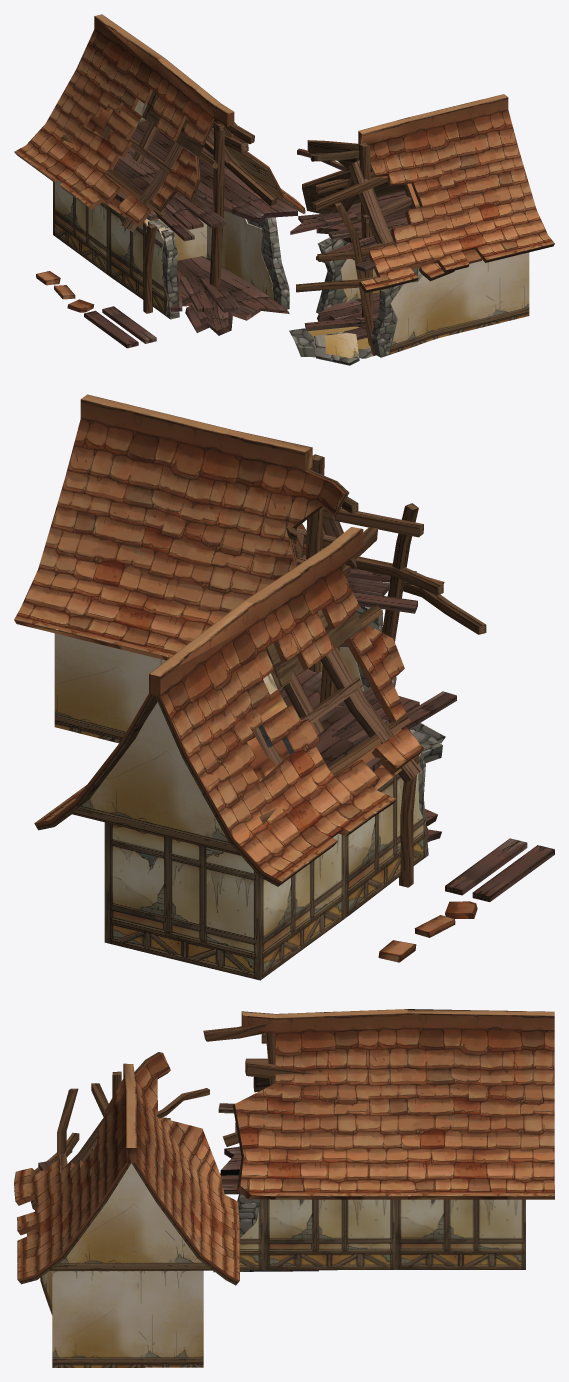
The model's file is 2_CZ_PoFangZi_01.FBX.
3 views of the same model, one above another, from view 1: azimuth 30°, elevation 25°; view 2: azimuth 150°, elevation 25°; view 3: azimuth 270°, elevation 25° (orthographic). The views are drawn at different scales.
Visible parts, largest first — view 1: 2_CZ_PoFangZi_01, 2_CZ_PoFangZi_02, 2_CZ_PoFangZi_09, 2_CZ_PoFangZi_08, 2_CZ_PoFangZi_03, 2_CZ_PoFangZi_04; view 2: 2_CZ_PoFangZi_01, 2_CZ_PoFangZi_02, 2_CZ_PoFangZi_08, 2_CZ_PoFangZi_09; view 3: 2_CZ_PoFangZi_01, 2_CZ_PoFangZi_02.
Boxes of the visible parts, x1,y1,x2,y2 form: 2_CZ_PoFangZi_01: [14, 14, 305, 335]; 2_CZ_PoFangZi_02: [290, 94, 554, 358]; 2_CZ_PoFangZi_09: [102, 306, 156, 343]; 2_CZ_PoFangZi_08: [84, 310, 138, 348]; 2_CZ_PoFangZi_03: [289, 327, 372, 358]; 2_CZ_PoFangZi_04: [313, 332, 359, 365]; 2_CZ_PoFangZi_01: [34, 527, 456, 980]; 2_CZ_PoFangZi_02: [14, 394, 486, 743]; 2_CZ_PoFangZi_08: [472, 845, 554, 901]; 2_CZ_PoFangZi_09: [445, 838, 527, 895]; 2_CZ_PoFangZi_01: [203, 1009, 554, 1272]; 2_CZ_PoFangZi_02: [14, 1052, 239, 1367].
Size of the model in its own units: 1777 by 1003 by 2041.
